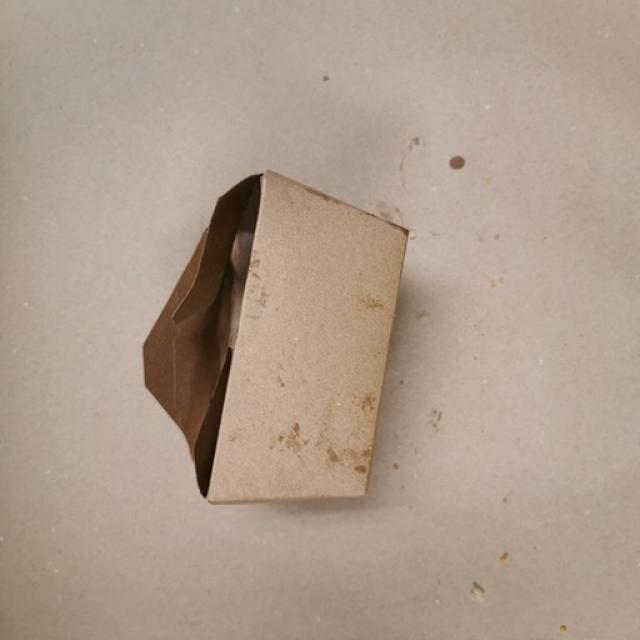PaperCardboard: (136, 169, 422, 514)
